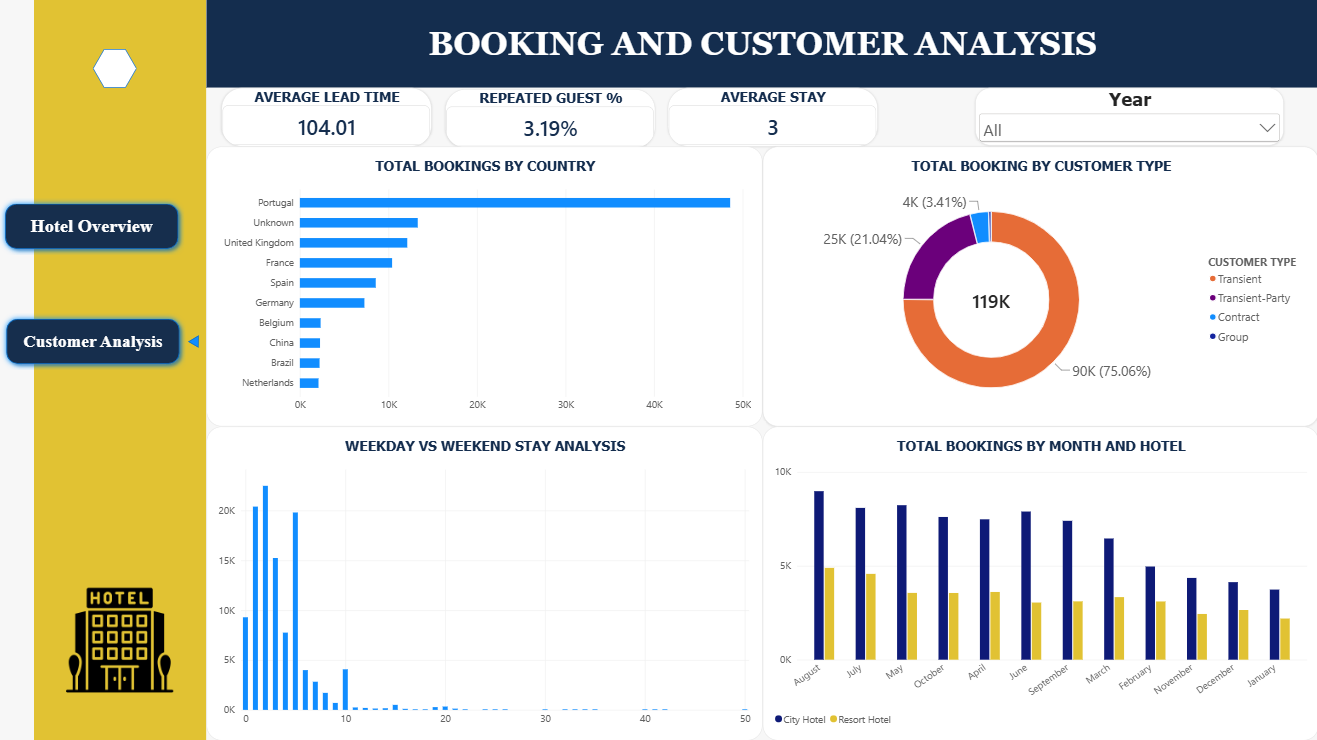

This screenshot's page, from the dashboard's own definition file:
{"tool":"powerbi","page":{"name":"Customer analysis","canvas":[1920,1080],"ordinal":1},"visuals":[{"type":"textbox","box":[50.9,0,250,1079.2],"z":0},{"type":"shape","box":[0,288.7,269.8,83],"z":1000},{"type":"shape","box":[1.9,456.6,269.8,83],"z":2000},{"type":"shape","box":[135.8,73.6,64.2,56.6],"z":4000},{"type":"textbox","box":[301.8,0,1618.2,129.1],"z":5000},{"type":"cardVisual","title":"AVERAGE LEAD TIME","fields":{"Data":["hotel_booking.Average lead time"]},"box":[323.6,129.1,305.5,85.5],"z":6000},{"type":"cardVisual","title":"REPEATED GUEST  %","fields":{"Data":["hotel_booking.Repeated guest%"]},"box":[649.1,130.9,305.5,85.5],"z":7000},{"type":"cardVisual","title":"AVERAGE STAY","fields":{"Data":["hotel_booking.Average stay"]},"box":[972.7,129.1,305.5,85.5],"z":8000},{"type":"clusteredBarChart","title":"TOTAL BOOKINGS BY COUNTRY","fields":{"Category":["hotel_booking.Country"],"Y":["hotel_booking.Total bookings"]},"box":[301.8,214.5,809.1,407.3],"z":9000},{"type":"donutChart","title":"TOTAL BOOKING BY CUSTOMER TYPE","fields":{"Category":["hotel_booking.customer_type"],"Y":["hotel_booking.Total bookings"]},"box":[1110.9,214.5,809.1,407.3],"z":10000},{"type":"clusteredColumnChart","title":"WEEKDAY VS WEEKEND STAY ANALYSIS","fields":{"Category":["hotel_booking.stays_in_week_nights"],"Y":["Sum(hotel_booking.stays_in_weekend_nights)"]},"box":[302,622,809,457],"z":11000},{"type":"clusteredColumnChart","title":"TOTAL BOOKINGS BY MONTH AND HOTEL","fields":{"Category":["hotel_booking.arrival_date_month"],"Series":["hotel_booking.hotel"],"Y":["hotel_booking.Total bookings"]},"box":[1111,622,809,457],"z":12000},{"type":"image","box":[96.4,838.2,158.2,189.1],"z":13000},{"type":"slicer","title":"Year","fields":{"Values":["hotel_booking.arrival_date_year"]},"box":[1420,129.1,449.1,83.6],"z":14000},{"type":"shape","box":[269.1,489.1,27.3,18.2],"z":15000}]}

Visuals, with their boxes in screenshot pixels (x1, y1, x2, y2), scaled from the page's 1920x1080 canvas onto the 1317x740 screenshot:
textbox: crop(35, 0, 206, 739)
shape: crop(0, 198, 185, 255)
shape: crop(1, 313, 186, 370)
shape: crop(93, 50, 137, 89)
textbox: crop(207, 0, 1316, 88)
"AVERAGE LEAD TIME" cardVisual: crop(222, 88, 432, 147)
"REPEATED GUEST  %" cardVisual: crop(445, 90, 655, 148)
"AVERAGE STAY" cardVisual: crop(667, 88, 877, 147)
"TOTAL BOOKINGS BY COUNTRY" clusteredBarChart: crop(207, 147, 762, 426)
"TOTAL BOOKING BY CUSTOMER TYPE" donutChart: crop(762, 147, 1316, 426)
"WEEKDAY VS WEEKEND STAY ANALYSIS" clusteredColumnChart: crop(207, 426, 762, 739)
"TOTAL BOOKINGS BY MONTH AND HOTEL" clusteredColumnChart: crop(762, 426, 1316, 739)
image: crop(66, 574, 175, 704)
"Year" slicer: crop(974, 88, 1282, 146)
shape: crop(185, 335, 203, 348)
